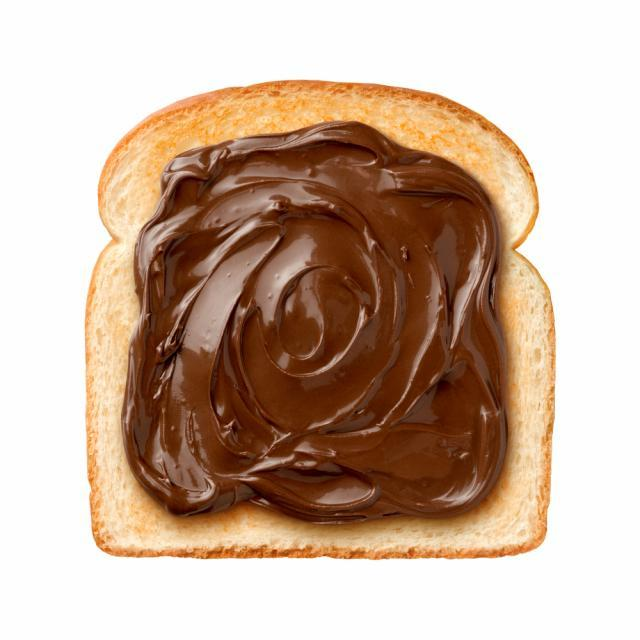Spread: (136, 154, 498, 518)
